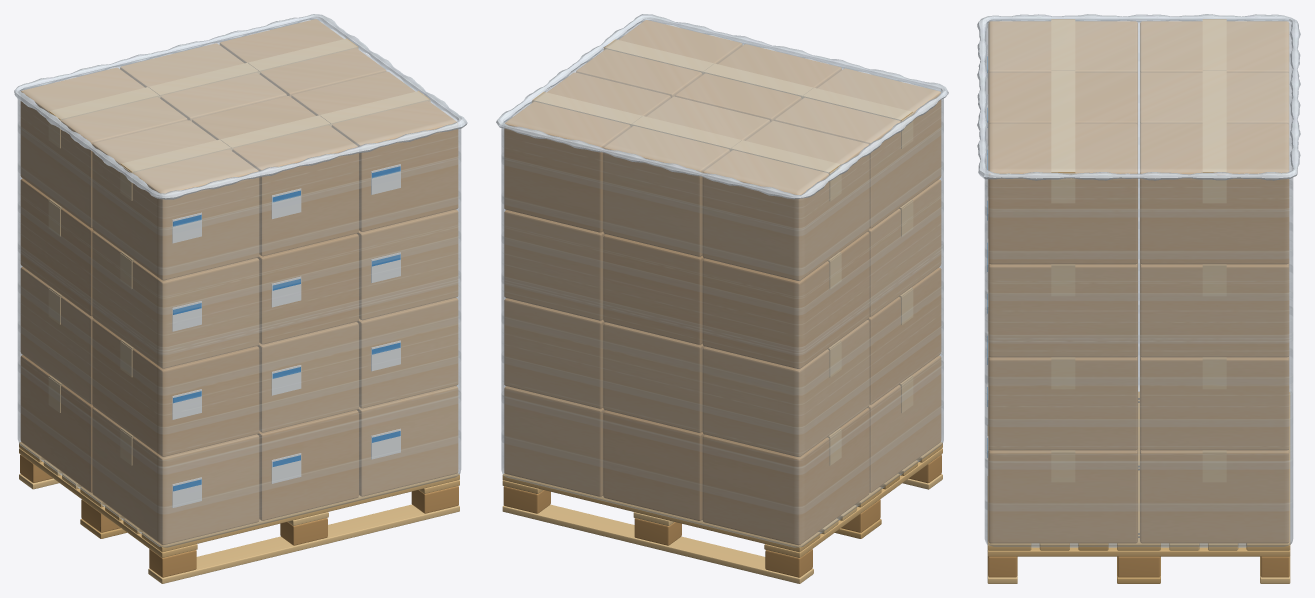
Rendered from pallet_load_wrapped.glb.
3 views of the same model, side by side, from view 1: azimuth 30°, elevation 25°; view 2: azimuth 150°, elevation 25°; view 3: azimuth 270°, elevation 25° (orthographic). The views are drawn at different scales.
Parts seen in each view (by area): view 1: film_geo, load_geo, pallet_geo; view 2: film_geo, load_geo, pallet_geo; view 3: film_geo, load_geo, pallet_geo.
Part boxes in pixels (bbox=[...]): film_geo: bbox=[14, 14, 467, 547]; load_geo: bbox=[20, 19, 458, 544]; pallet_geo: bbox=[19, 442, 459, 583]; film_geo: bbox=[496, 14, 948, 547]; load_geo: bbox=[504, 20, 941, 545]; pallet_geo: bbox=[502, 442, 942, 583]; film_geo: bbox=[977, 14, 1300, 547]; load_geo: bbox=[987, 19, 1289, 543]; pallet_geo: bbox=[987, 391, 1290, 583].
Bounding box in the file's own units: 1.27 × 1.51 × 1.07.
11 materials, 1 textured.
